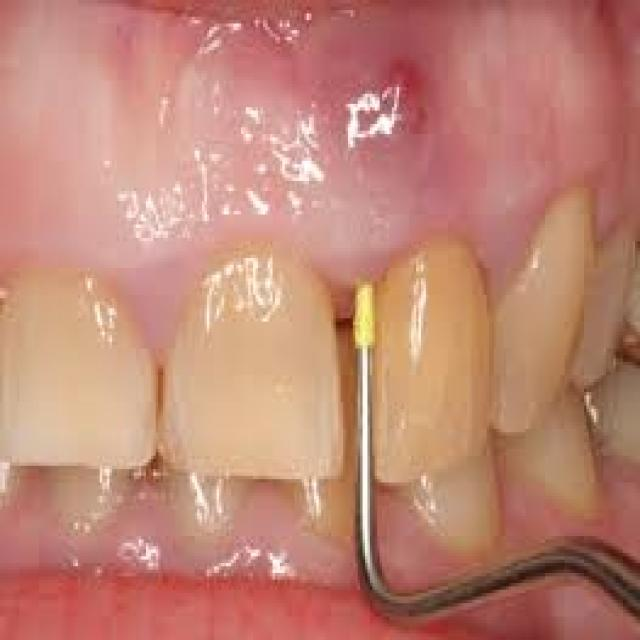abscess: (300, 37, 461, 185)
